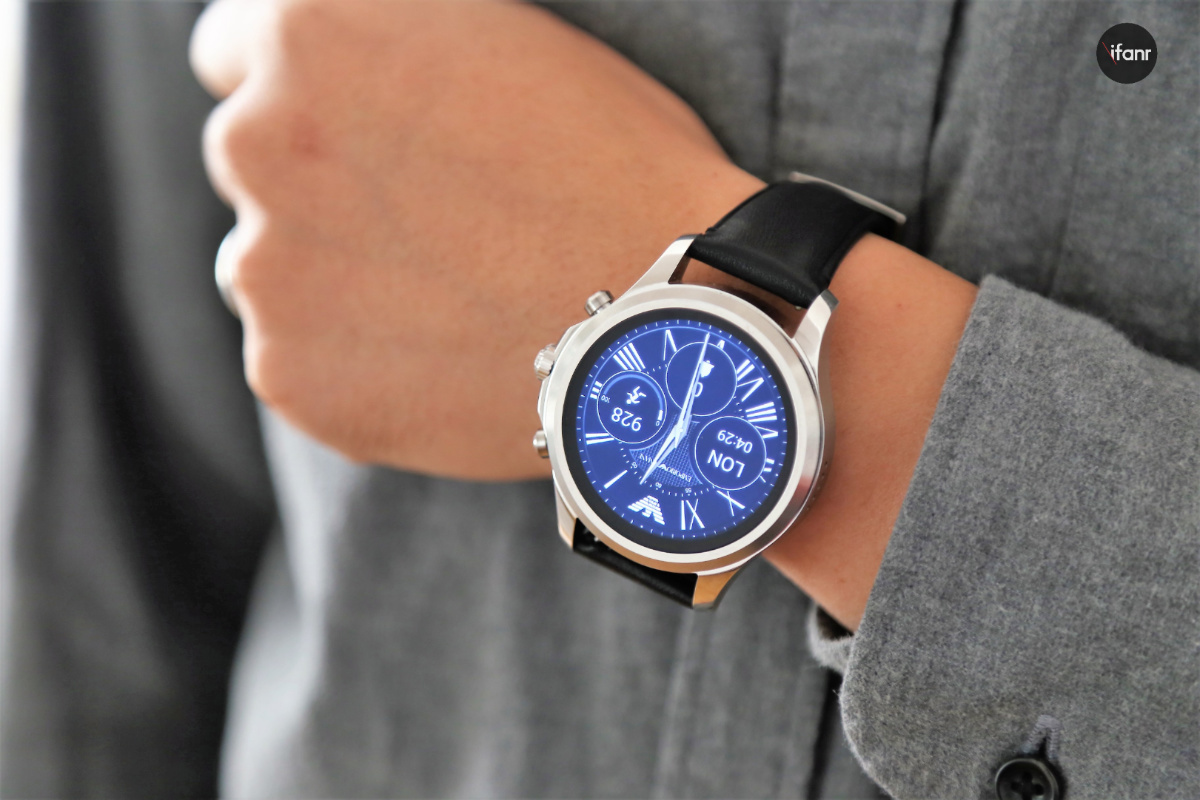clock: (558, 307, 801, 558)
